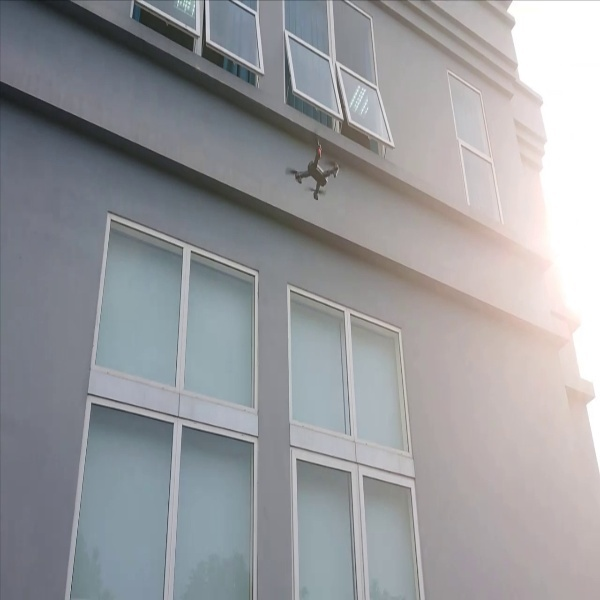drone: (283, 137, 348, 207)
